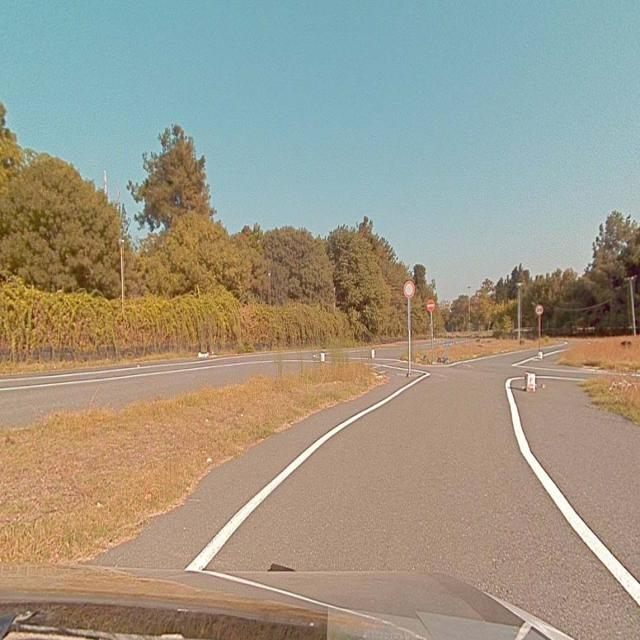girisyok: (427, 298, 435, 311)
